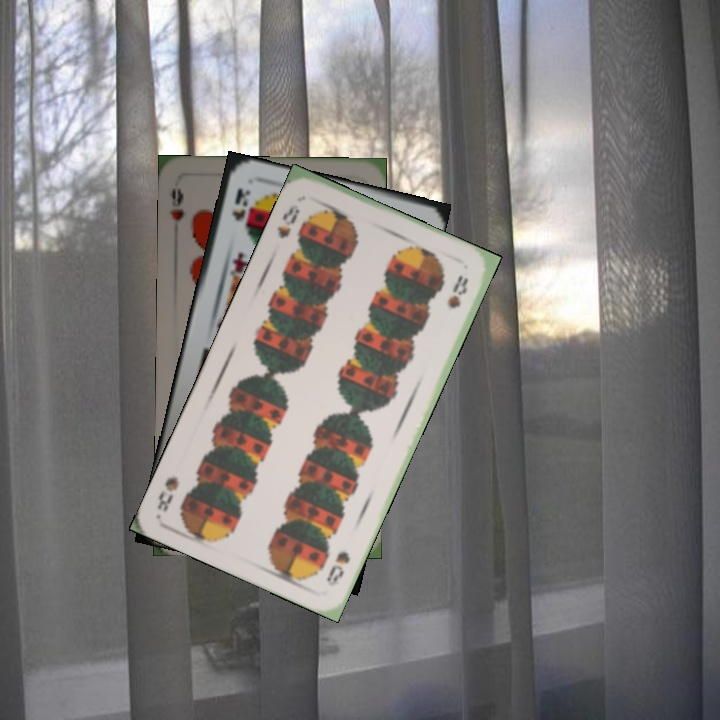H9: (165, 184, 187, 223)
S8: (322, 547, 353, 589), (273, 201, 303, 242)
SK: (228, 184, 253, 224)
